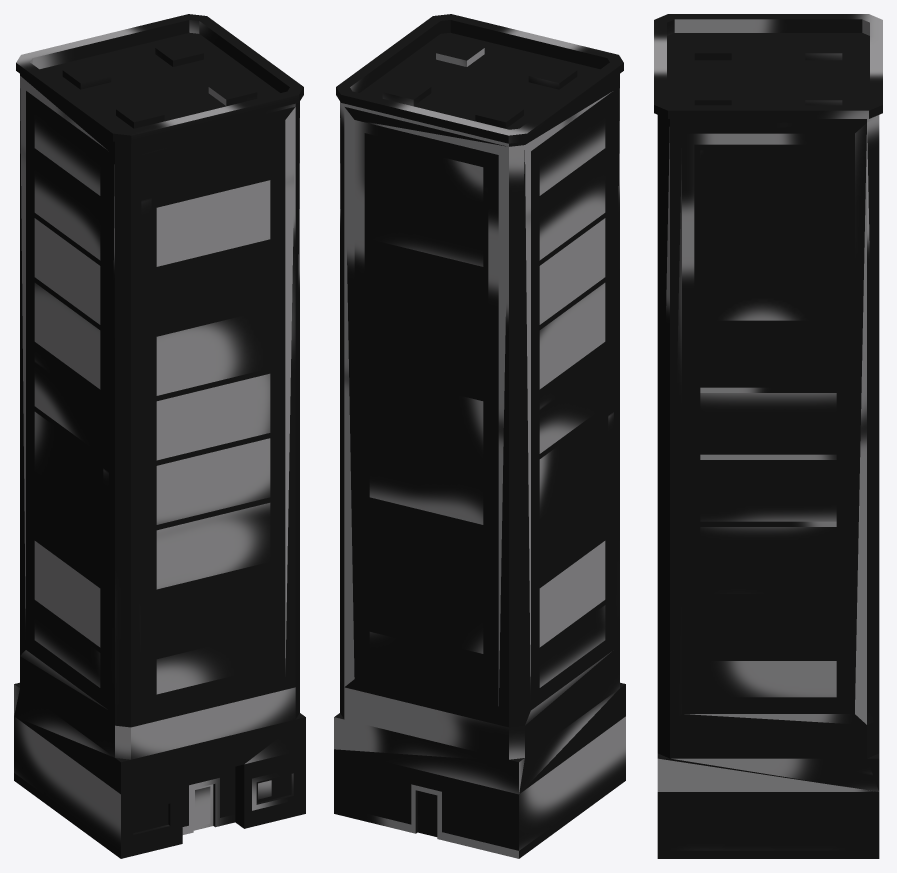
The model's file is middleBill.gltf.
The picture shows the model from 3 angles, left to right: view 1: azimuth 30°, elevation 25°; view 2: azimuth 150°, elevation 25°; view 3: azimuth 270°, elevation 25°; orthographic projection. The views are drawn at different scales.
Visible parts, largest first — view 1: skyscraperB; view 2: skyscraperB; view 3: skyscraperB.
Boxes of the visible parts, x1,y1,x2,y2 form: skyscraperB: [14, 14, 305, 858]; skyscraperB: [334, 14, 625, 858]; skyscraperB: [654, 14, 882, 858].
Size of the model in its own units: 1.24 by 4.48 by 1.24.
Materials: 1 (1 with a texture image).
